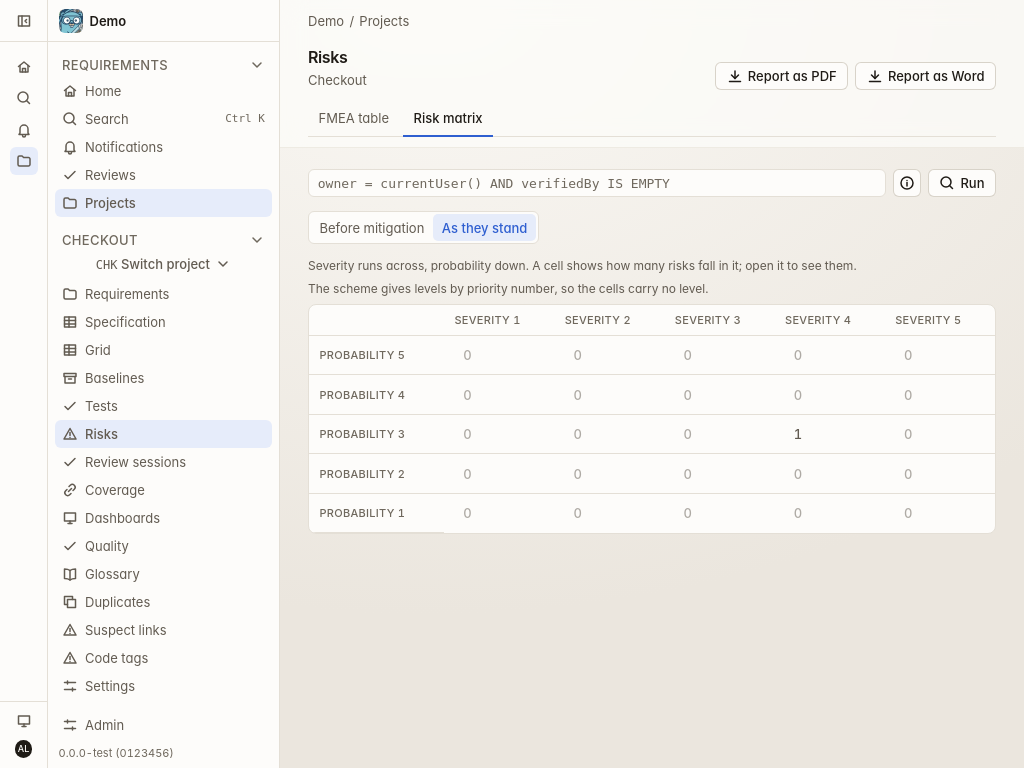
the risk matrix's controls › asks for the side picked and closes the cell open
Click the button named "1 risk at severity 4 and probability 3". click: (798, 434)
box: x1=785 y1=422 x2=811 y2=446
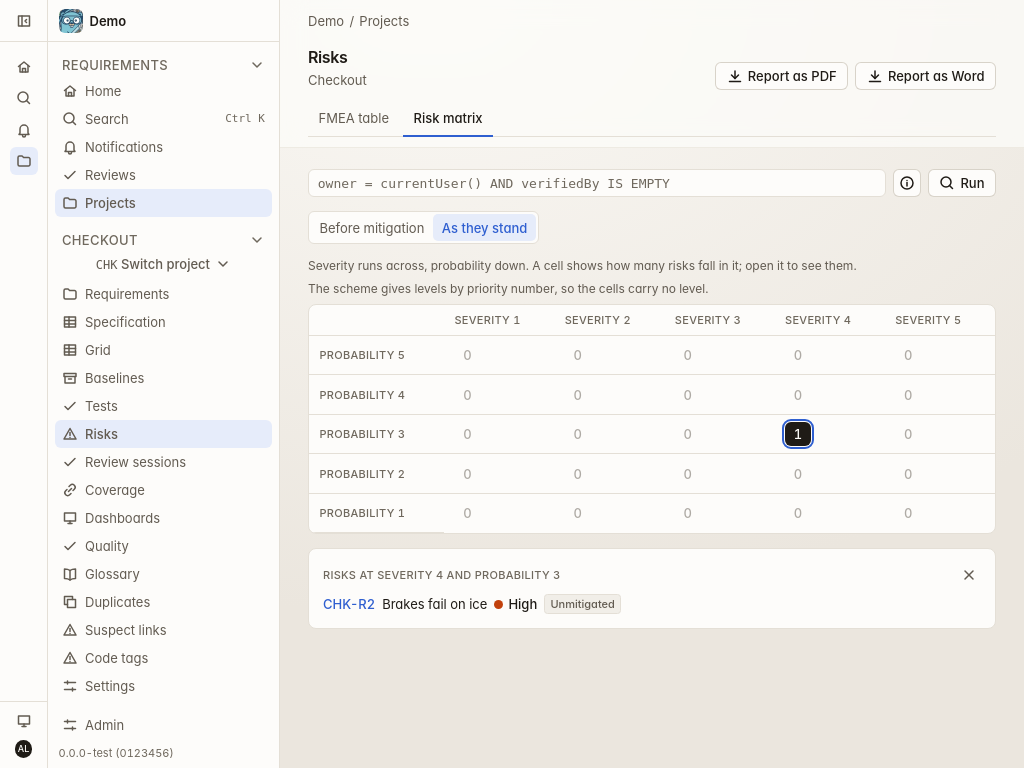
Check: the element "Risks at severity 4 and probability 3" is shown, box x1=323 y1=563 x2=981 y2=614
Click the button "Before mitigation". click: (372, 228)
box: x1=311 y1=214 x2=433 y2=241
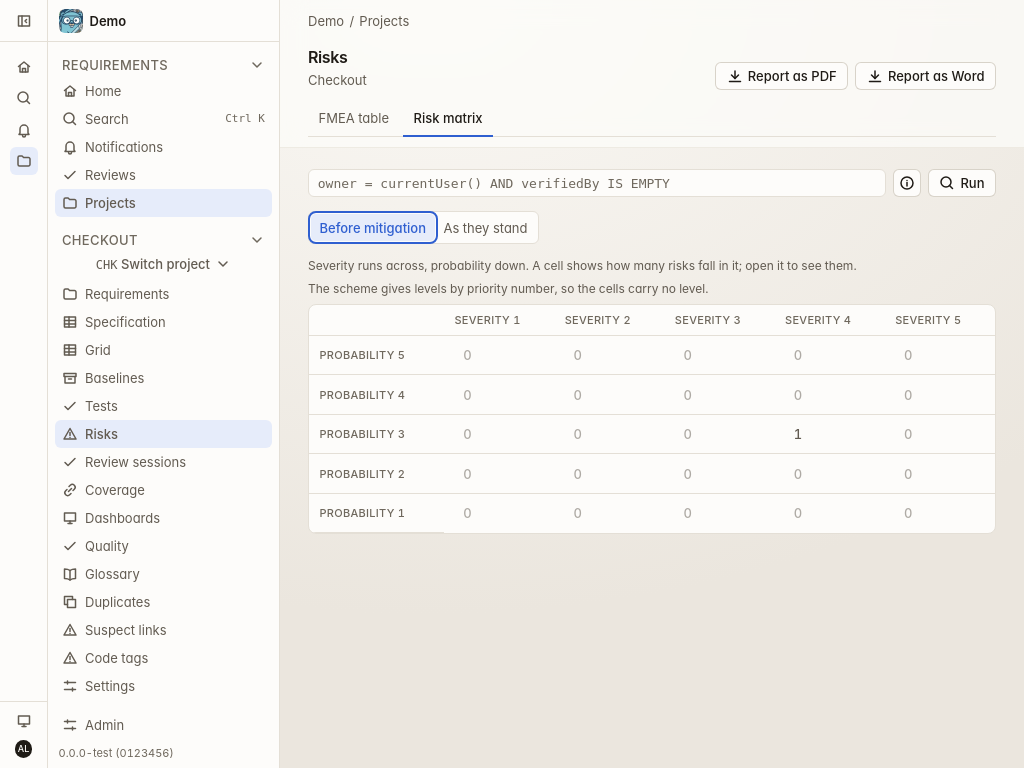
Check: the heading "Risks at severity 4 and probability 3" is gone
